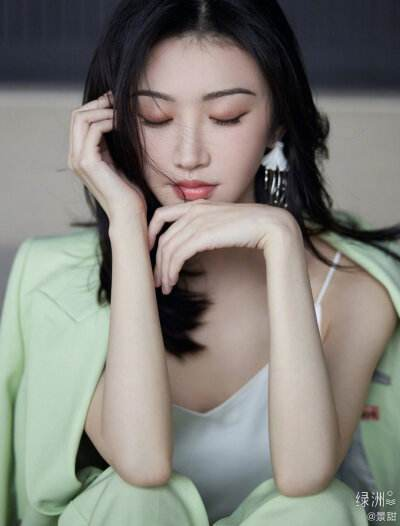person: (67, 13, 367, 526)
